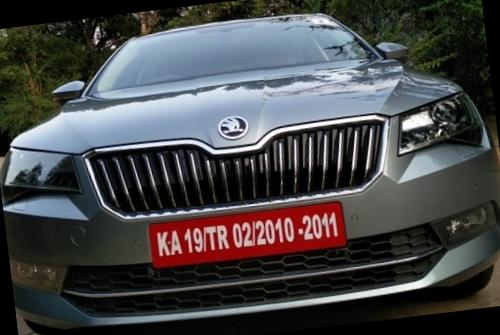plate: (140, 184, 360, 290)
